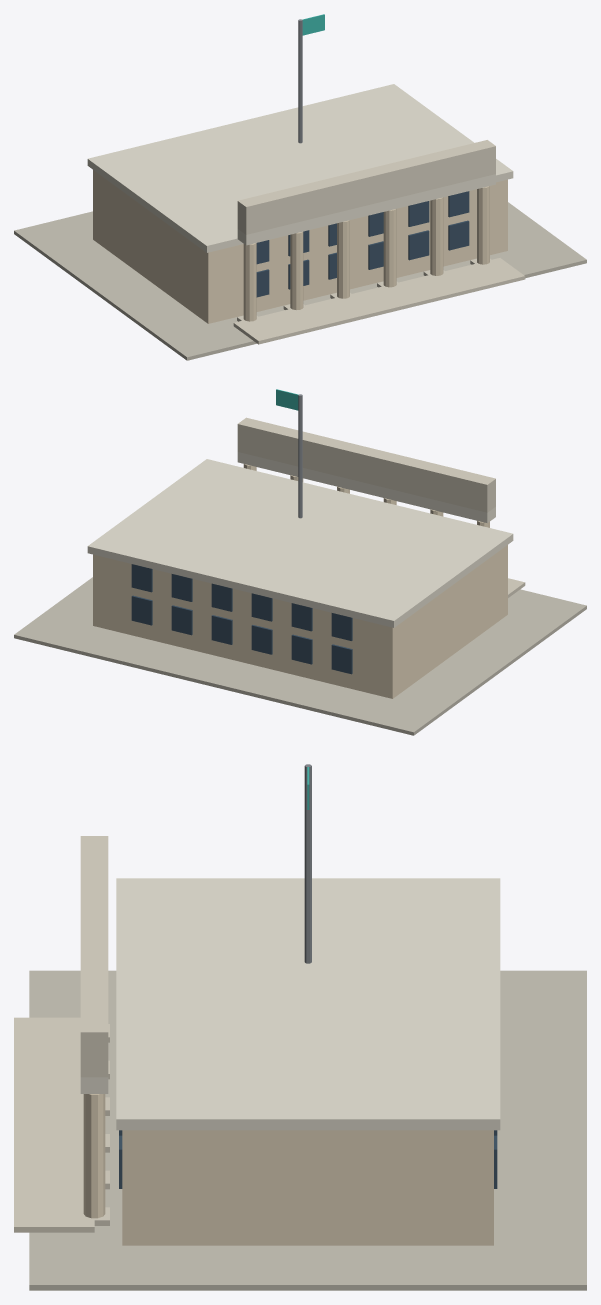
Rendered from building.city-hall.glb.
3 views of the same model, one above another, from view 1: azimuth 30°, elevation 25°; view 2: azimuth 150°, elevation 25°; view 3: azimuth 270°, elevation 25° (orthographic). The views are drawn at different scales.
Visible parts, largest first — view 1: building.city-hall; view 2: building.city-hall; view 3: building.city-hall.
Boxes of the visible parts, x1,y1,x2,y2 form: building.city-hall: [14, 14, 586, 360]; building.city-hall: [14, 389, 586, 735]; building.city-hall: [14, 764, 586, 1290].
Bounding box in the file's own units: 24 × 13.1 × 18.5.
